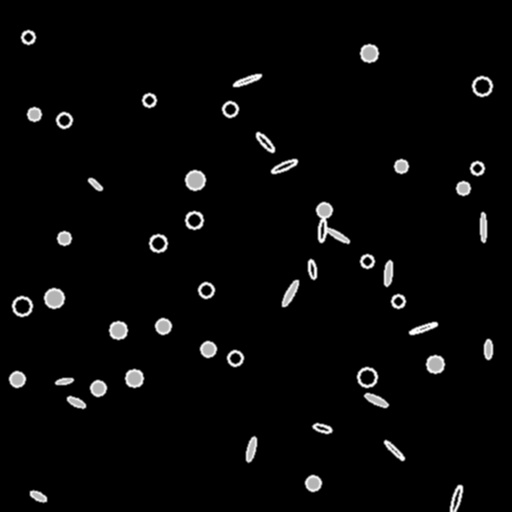pseudomonas: (280, 279, 300, 307), (254, 131, 276, 153), (383, 439, 405, 461), (324, 226, 350, 244), (408, 321, 438, 335), (271, 158, 297, 174), (363, 392, 389, 408), (233, 73, 261, 87), (449, 485, 463, 512), (245, 437, 257, 461), (66, 395, 86, 409), (87, 177, 103, 191), (307, 259, 317, 279), (384, 261, 392, 285), (30, 490, 46, 502), (313, 423, 331, 433), (318, 219, 326, 241), (480, 213, 486, 241), (484, 340, 492, 359), (55, 377, 73, 385)
synechocystis: (186, 171, 204, 189), (45, 289, 63, 307), (473, 77, 491, 95), (13, 297, 31, 315), (358, 368, 376, 386), (126, 370, 142, 386), (427, 356, 443, 372), (361, 45, 377, 61), (150, 235, 166, 251), (186, 212, 202, 228), (110, 322, 126, 338), (223, 102, 237, 116), (199, 283, 213, 297), (306, 476, 320, 490), (156, 319, 170, 333), (91, 381, 105, 395), (317, 203, 331, 217), (228, 351, 242, 365), (10, 372, 24, 386), (201, 342, 215, 356), (57, 113, 71, 127), (58, 232, 70, 244), (28, 108, 40, 120), (22, 31, 34, 43), (392, 295, 404, 307), (395, 160, 407, 172), (143, 94, 155, 106), (361, 255, 373, 267), (457, 182, 469, 194), (471, 162, 483, 174)
